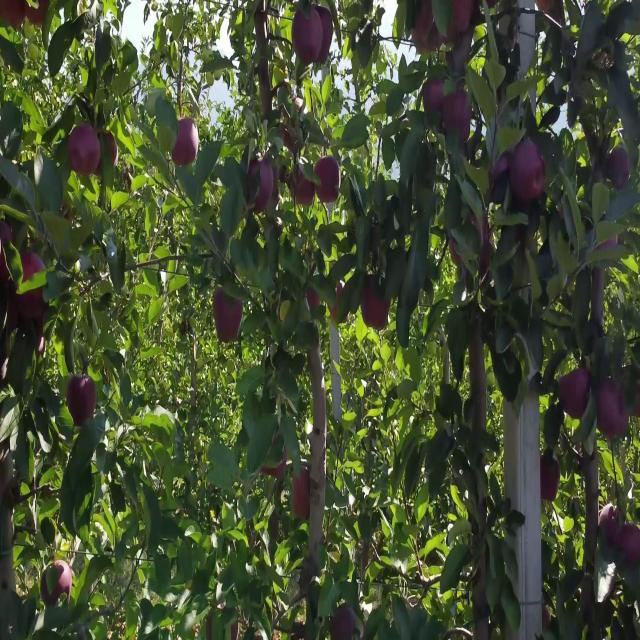apple: (512, 142, 548, 206), (596, 376, 630, 441), (360, 277, 391, 334), (468, 213, 495, 276), (248, 156, 276, 215), (292, 7, 320, 66), (68, 127, 100, 178), (560, 369, 591, 421), (68, 376, 99, 427), (448, 92, 474, 146), (412, 7, 439, 59), (172, 120, 200, 169), (316, 156, 341, 206), (280, 106, 304, 155), (216, 284, 244, 325), (316, 7, 336, 64), (292, 469, 312, 523), (540, 455, 561, 505), (48, 561, 72, 603), (608, 149, 631, 190), (424, 78, 447, 119), (600, 504, 622, 546), (332, 604, 356, 639), (620, 526, 640, 567), (492, 156, 512, 197), (452, 0, 476, 34), (328, 284, 347, 325), (292, 469, 311, 510), (296, 170, 316, 208), (24, 248, 45, 283), (4, 1, 26, 32), (216, 319, 240, 347), (536, 1, 563, 25), (28, 0, 50, 28), (272, 447, 289, 480), (292, 497, 312, 523), (104, 135, 119, 165), (308, 284, 322, 313), (448, 241, 463, 268), (0, 248, 11, 284), (632, 383, 640, 423), (4, 220, 15, 249), (256, 14, 269, 37), (4, 257, 11, 283), (280, 305, 290, 322), (636, 383, 640, 423), (232, 625, 240, 638)
